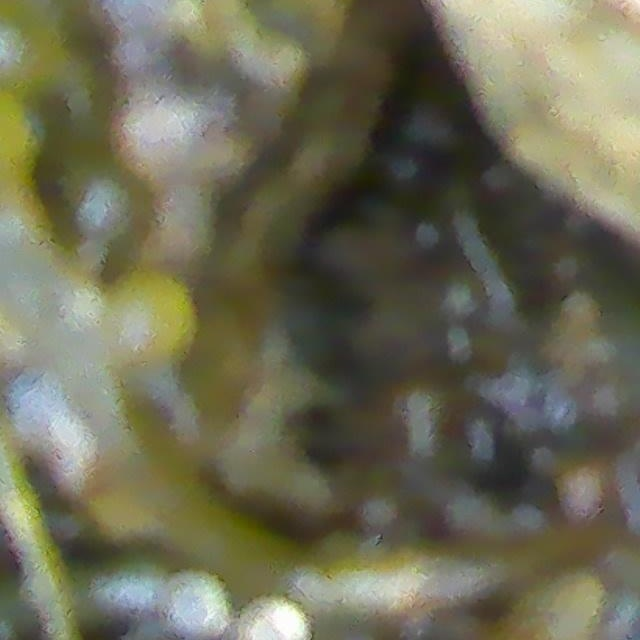SeaGrape: (106, 265, 202, 367), (170, 574, 230, 637), (234, 601, 310, 639)
